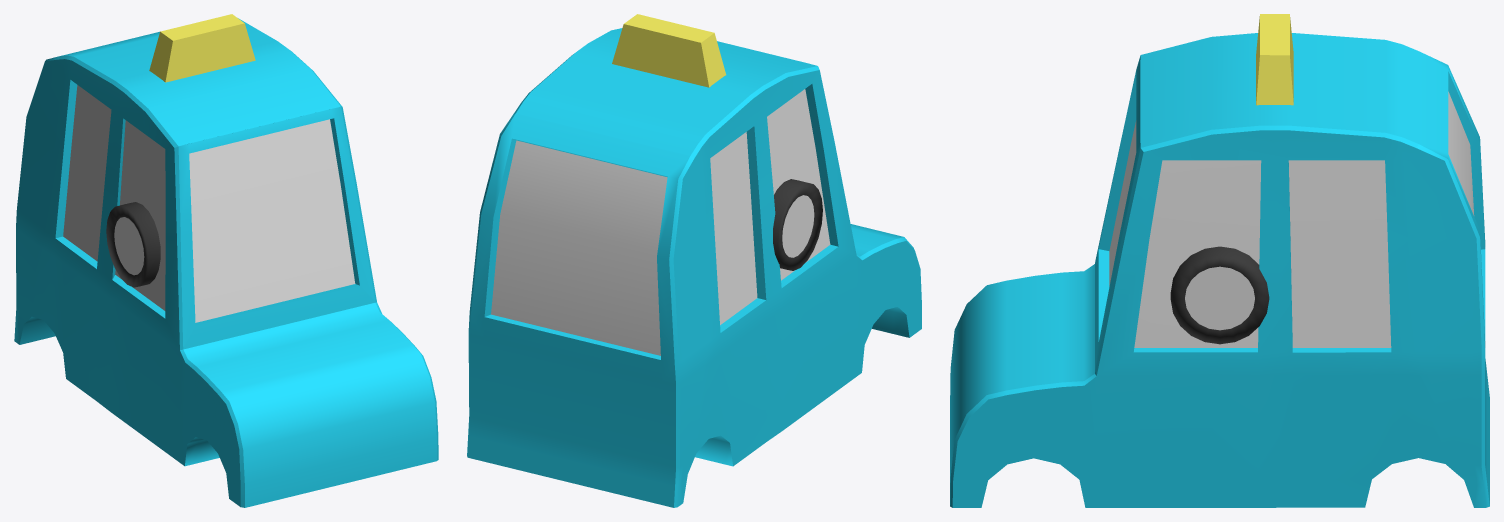
File: MainCar.fbx
3 views of the same model, side by side, from view 1: azimuth 30°, elevation 25°; view 2: azimuth 150°, elevation 25°; view 3: azimuth 270°, elevation 25° (orthographic). The views are drawn at different scales.
Visible parts, largest first — view 1: car_P_chasis, car_P_right_wheel; view 2: car_P_chasis, car_P_right_wheel, car_P_back_wheel; view 3: car_P_chasis, car_P_back_wheel.
Boxes of the visible parts, x1,y1,x2,y2 form: car_P_chasis: (14, 14, 438, 507); car_P_right_wheel: (106, 203, 160, 287); car_P_chasis: (467, 14, 921, 507); car_P_right_wheel: (773, 179, 822, 270); car_P_back_wheel: (773, 179, 808, 259); car_P_chasis: (950, 14, 1489, 507); car_P_back_wheel: (1170, 246, 1269, 344).
Bounding box in the file's own units: 76.25 × 131 × 154.
